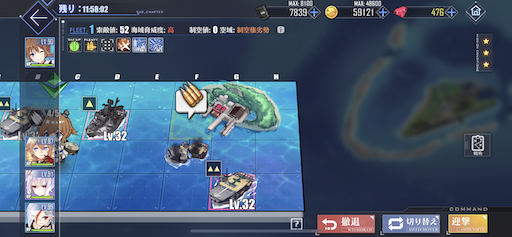lv1: (80, 97, 133, 143)
lv2: (203, 159, 254, 208)
